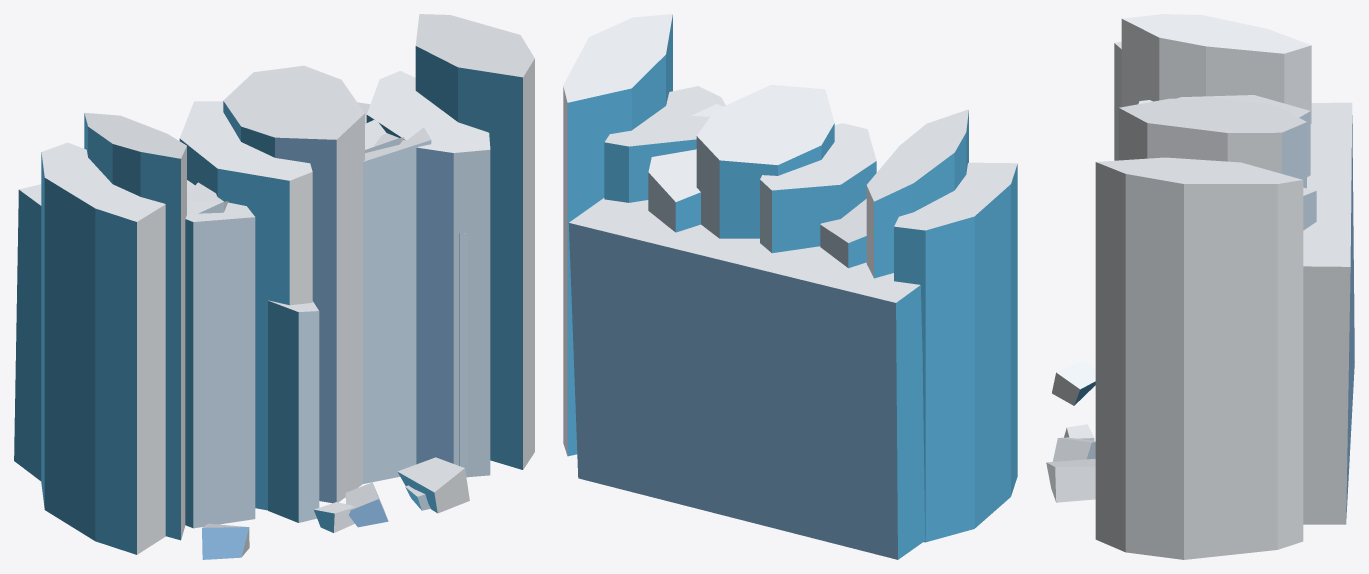
Rendered from GlacierWallC.fbx.
3 views of the same model, side by side, from view 1: azimuth 30°, elevation 25°; view 2: azimuth 150°, elevation 25°; view 3: azimuth 270°, elevation 25° (orthographic). The views are drawn at different scales.
Parts seen in each view (by area): view 1: GlacierWallC; view 2: GlacierWallC; view 3: GlacierWallC.
Boxes of the visible parts, x1,y1,x2,y2 form: GlacierWallC: [14, 14, 534, 559]; GlacierWallC: [563, 14, 1017, 559]; GlacierWallC: [1046, 14, 1354, 559].
Bounding box in the file's own units: 9.43 × 8.01 × 5.92.
1 material, 1 textured.
